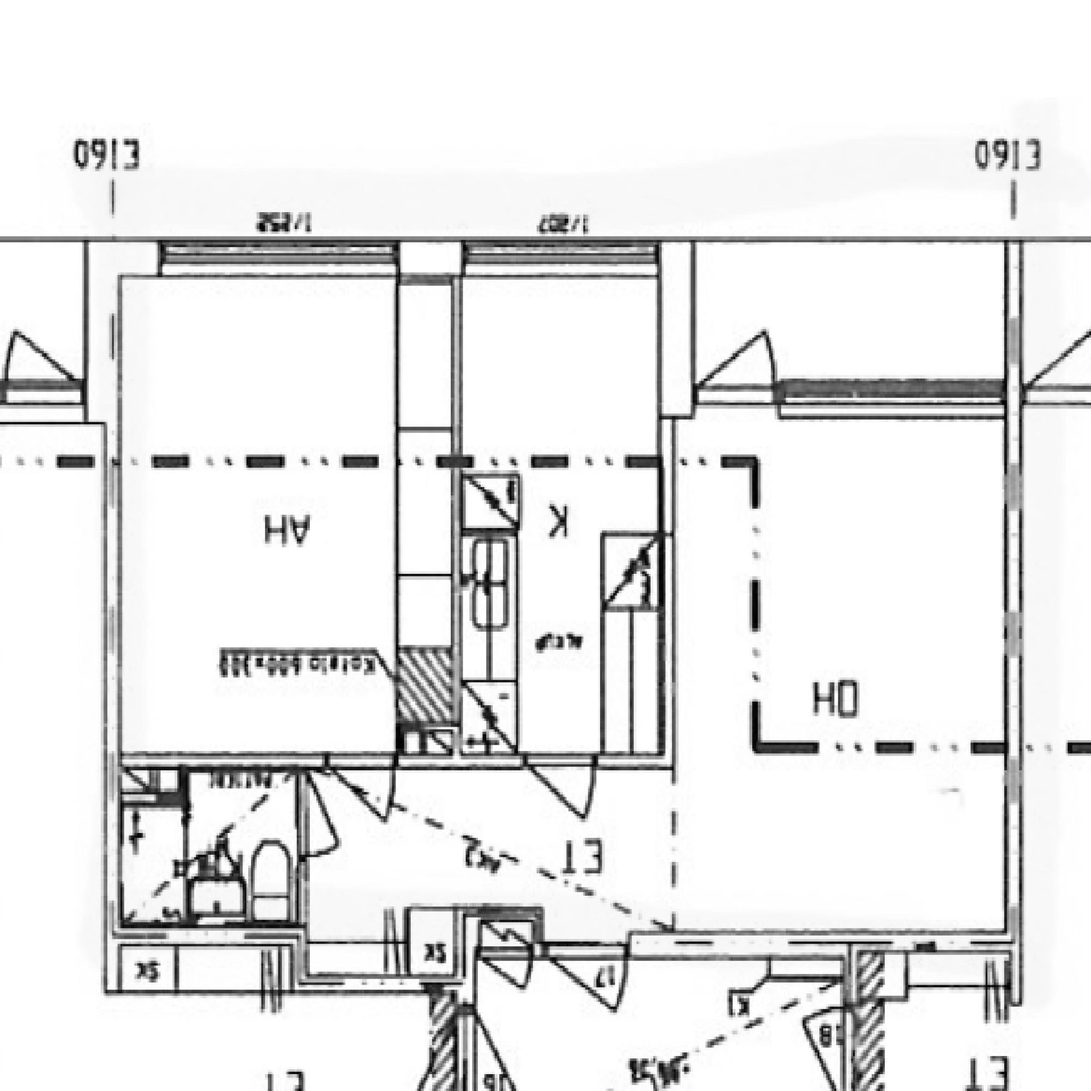wall: (102, 234, 696, 279), (103, 235, 122, 943), (530, 935, 1021, 961), (658, 383, 1021, 416), (102, 747, 672, 765), (1007, 416, 1020, 961), (658, 234, 696, 416), (452, 235, 463, 765), (659, 417, 672, 765), (102, 758, 186, 802), (102, 925, 306, 943), (293, 970, 472, 988), (396, 714, 463, 756), (1005, 236, 1020, 417), (296, 747, 307, 925), (458, 908, 544, 926), (458, 908, 472, 988), (293, 925, 306, 988), (530, 908, 544, 961)
